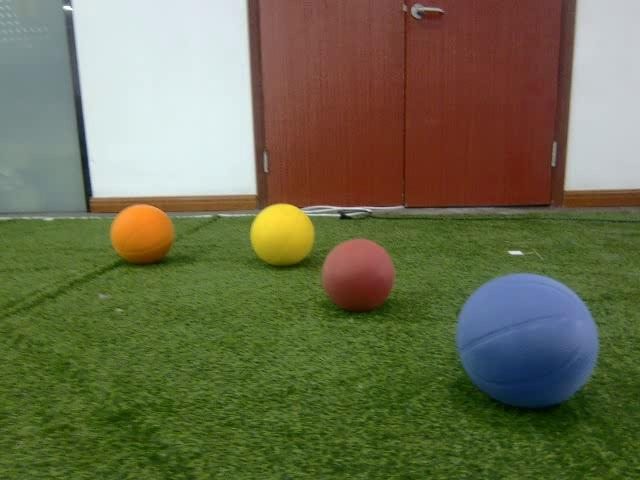blue_ball: (458, 272, 598, 408)
orange_ball: (111, 204, 174, 265)
red_ball: (323, 238, 395, 311)
yellow_ball: (250, 204, 316, 268)
